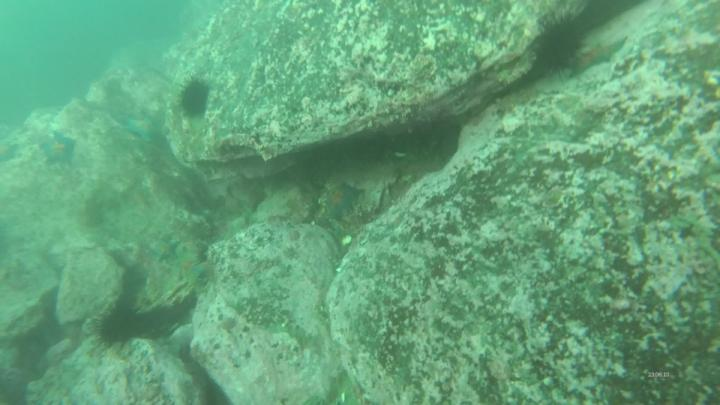echinus: (530, 11, 587, 76), (96, 305, 146, 348), (174, 74, 214, 120)
starfish: (40, 127, 78, 168), (324, 182, 367, 218), (126, 115, 164, 145), (149, 239, 180, 263)
